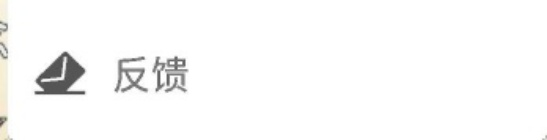CheckedTextView: (1, 1, 546, 139)
